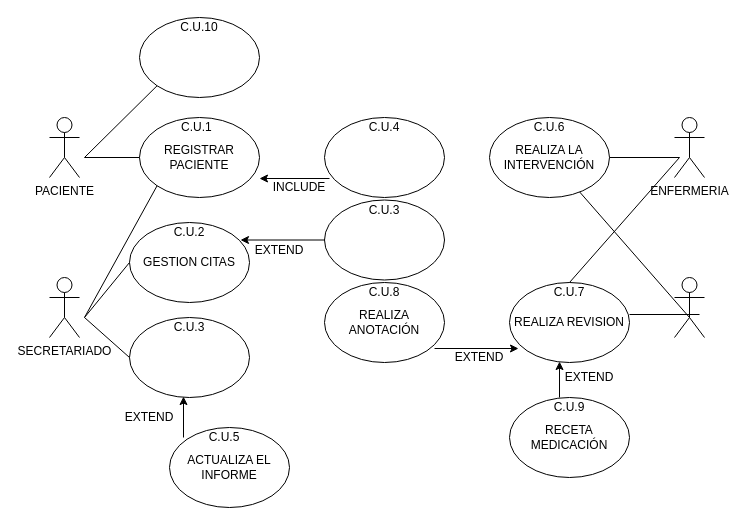
This 746x525 diagram has some shape labels left out. The box of each missing label's shape, as (x1, y1, x2, y2) in pixels:
CANCELA CITA: (324, 199, 444, 280)
CIRUJANO: (674, 276, 704, 338)
DAR CONSENTIMIENTO: (324, 116, 444, 198)
ESCRIBE INFORME GLOBAL: (128, 316, 250, 398)
REALIZA PAGO: (138, 16, 260, 98)
